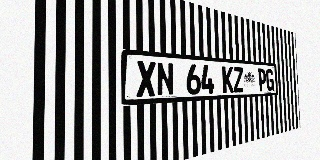4: (201, 65, 214, 94)
6: (186, 64, 201, 95)
G: (266, 69, 274, 91)
K: (222, 66, 234, 93)
N: (156, 62, 174, 96)
P: (257, 68, 266, 91)
X: (136, 60, 156, 97)
Z: (233, 67, 244, 93)
